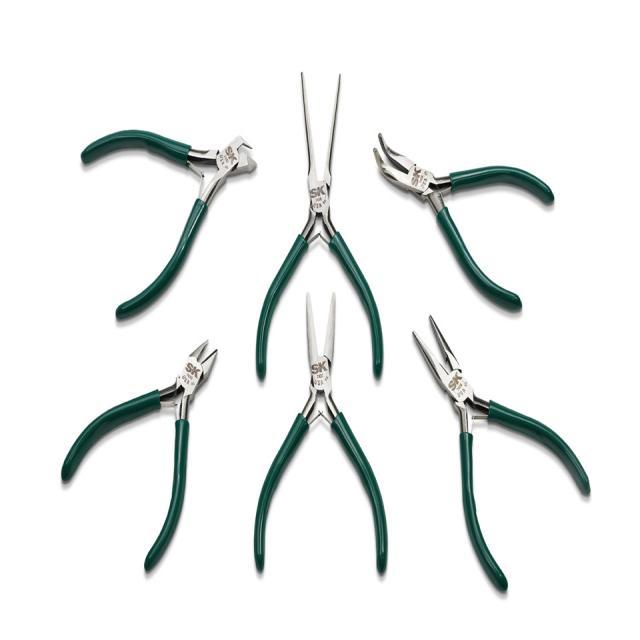pliers: (408, 309, 594, 599), (250, 283, 393, 582), (252, 68, 386, 386), (56, 335, 222, 576), (76, 122, 262, 328), (368, 126, 558, 318)
